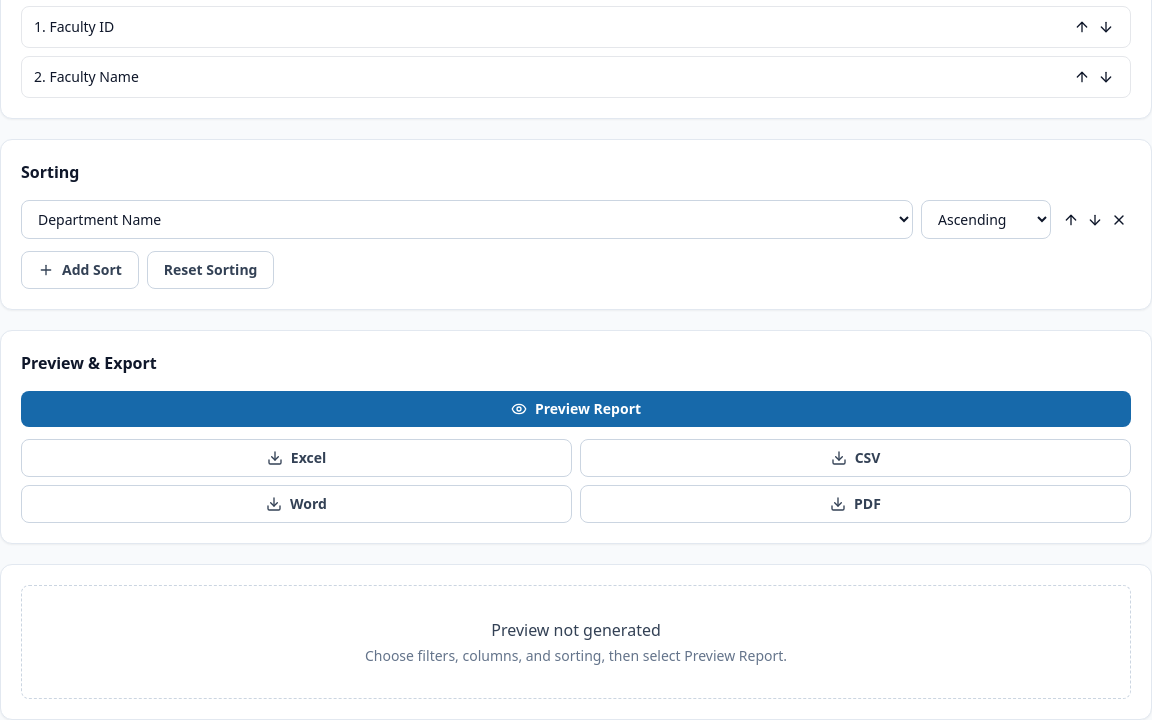
Test: administrative report builder › keeps MAIN and SUPPORTING activity allocations as distinct preview rows
(page scrolled)
Click the button "Preview Report". click: [576, 409]
box: top-left (21, 391), bottom-right (1131, 427)
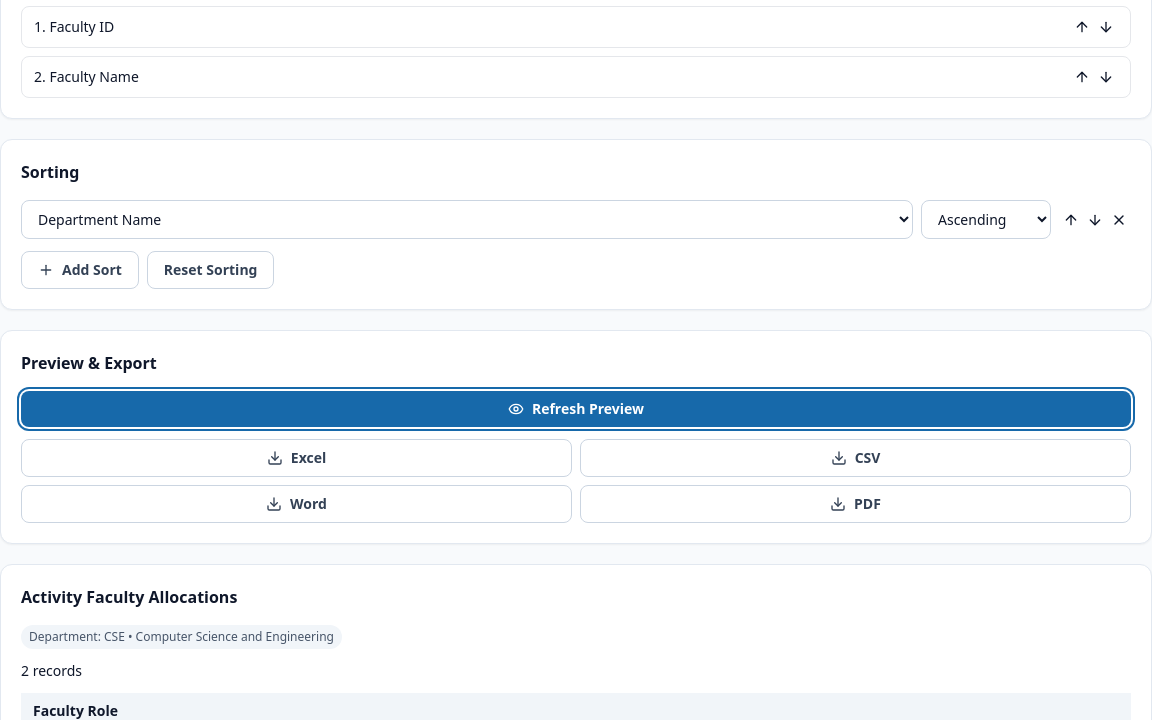
Result: the text "2 records" is shown at top-left (21, 661), bottom-right (82, 680)
